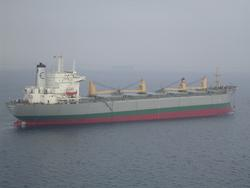Cargoship: (4, 48, 239, 128)
